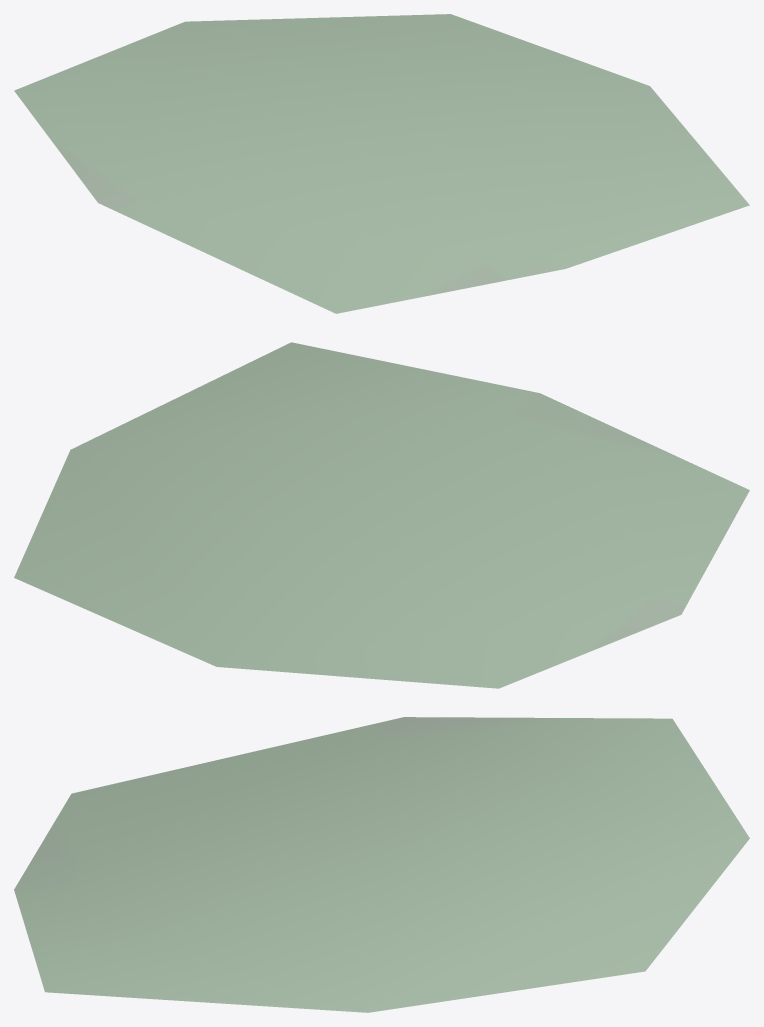
File: TROLLHOLE02_HOLECAP02.fbx
3 renders of one model, top to bottom at view 1: azimuth 30°, elevation 25°; view 2: azimuth 150°, elevation 25°; view 3: azimuth 270°, elevation 25°, orthographic. The views are drawn at different scales.
Visible parts, largest first — view 1: TROLLHOLE02_HOLECAP02; view 2: TROLLHOLE02_HOLECAP02; view 3: TROLLHOLE02_HOLECAP02.
Part boxes in pixels (bbox=[...]): TROLLHOLE02_HOLECAP02: bbox=[14, 14, 749, 313]; TROLLHOLE02_HOLECAP02: bbox=[14, 342, 749, 688]; TROLLHOLE02_HOLECAP02: bbox=[14, 717, 749, 1012].
Bounding box in the file's own units: 26009 × 1874 × 27571.
Materials: 1 (1 with a texture image).
